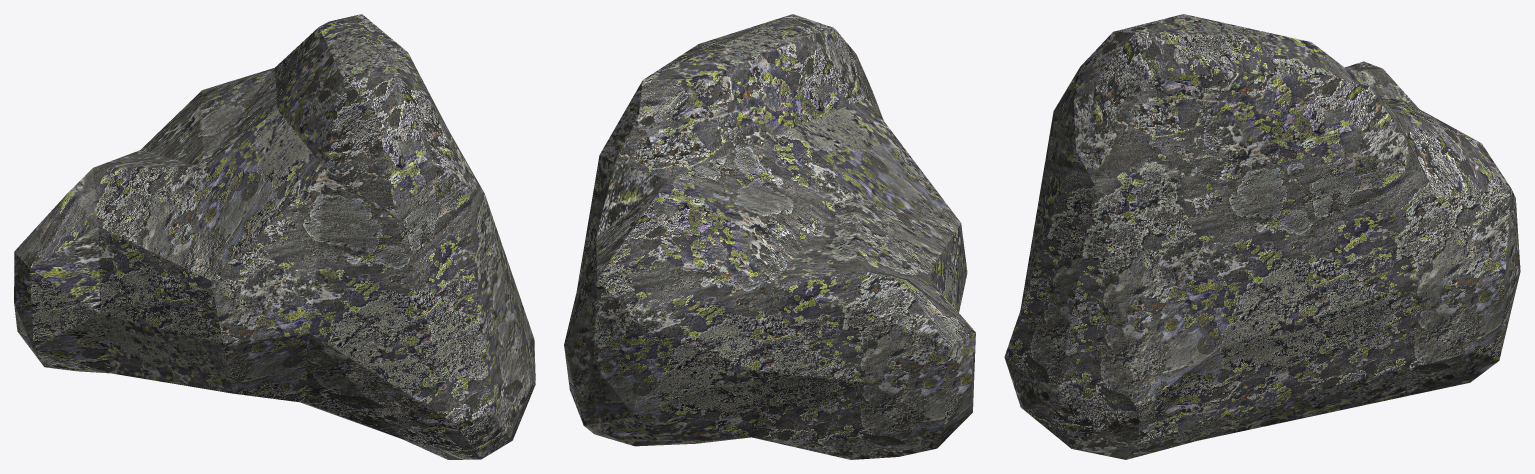
The model's file is stone.glb.
The picture shows the model from 3 angles, left to right: view 1: azimuth 30°, elevation 25°; view 2: azimuth 150°, elevation 25°; view 3: azimuth 270°, elevation 25°; orthographic projection. The views are drawn at different scales.
Parts seen in each view (by area): view 1: stone-0; view 2: stone-0; view 3: stone-0.
Part boxes in pixels (x1=…): stone-0: x1=14, y1=14, x2=535, y2=459; stone-0: x1=564, y1=14, x2=975, y2=459; stone-0: x1=1004, y1=14, x2=1520, y2=459.
Bounding box in the file's own units: 1.45 × 1.25 × 1.47.
1 material, 1 textured.
